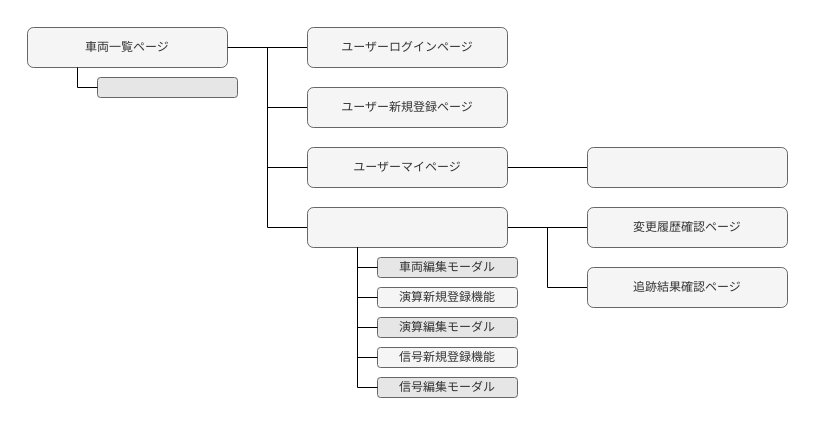
The diagram is 814 pixels wide and 424 high, and some of its shapes have lost their labels. The shapes that lost their labels are listed below. From the top down, each one's centre as x and y in pixels, then its label:
the point at 167,87: 車両新規登録モーダル
the point at 687,167: ユーザー編集ページ
the point at 407,227: 車両詳細ページ
